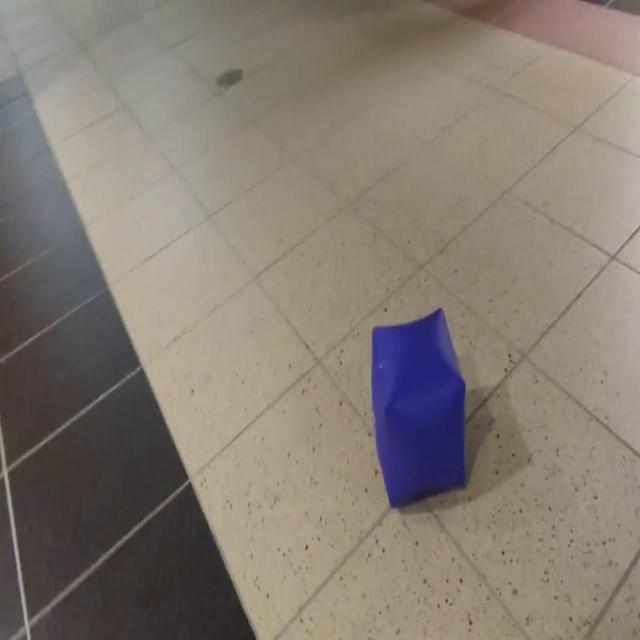frc_cube: (369, 303, 467, 513)
